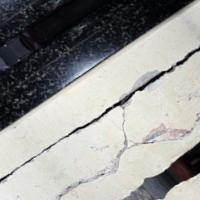crack: (20, 45, 196, 184)
